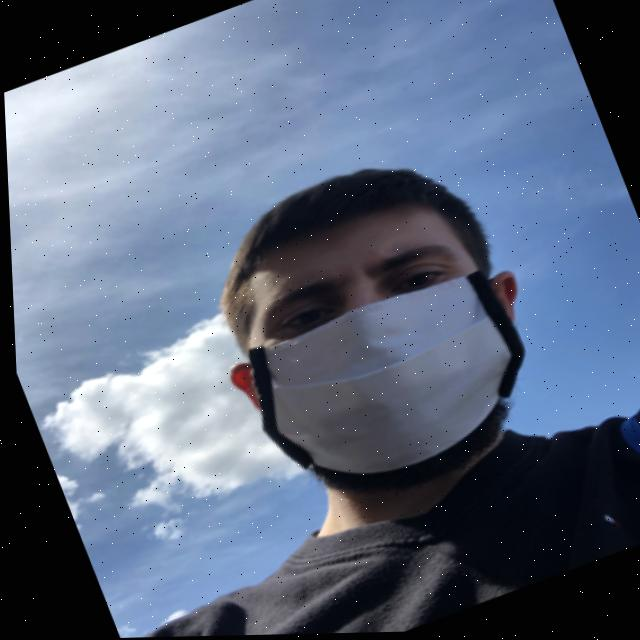Mask: (214, 233, 573, 528)
